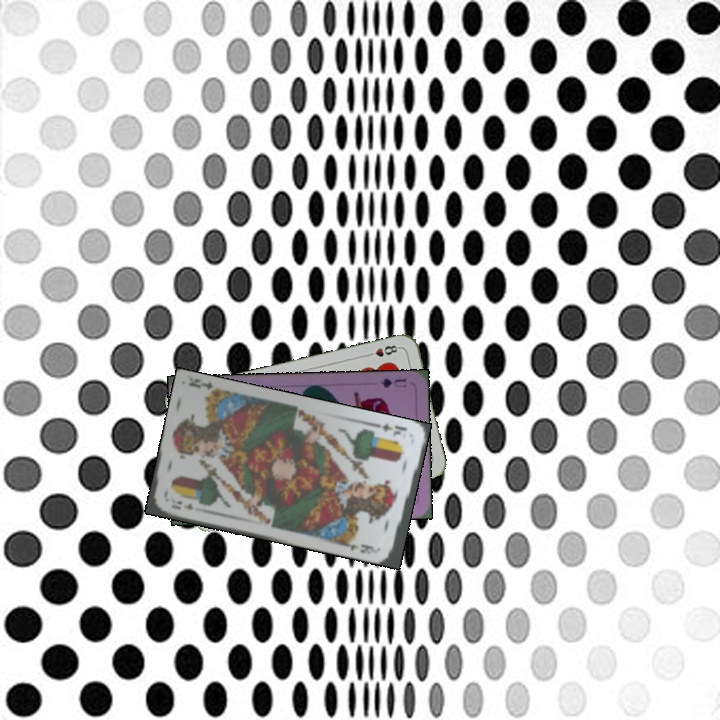EK: (372, 419, 409, 439), (167, 497, 196, 512)
GU: (377, 374, 409, 390)
H8: (362, 341, 403, 359)
